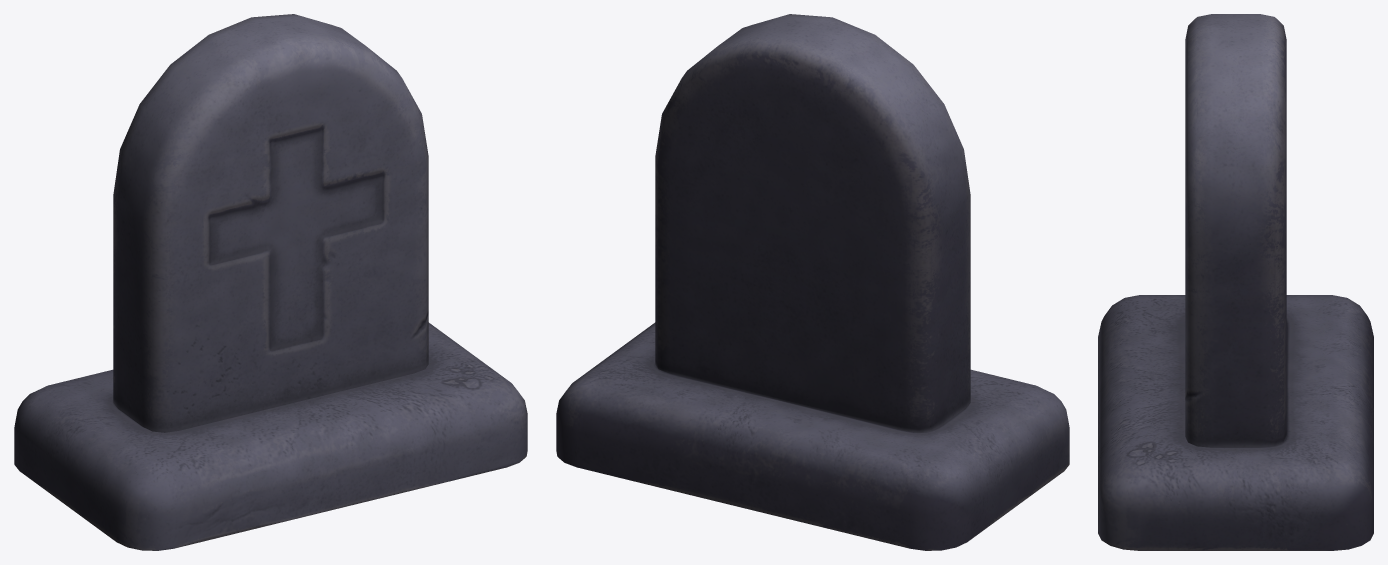
File: Gravestone.FBX
3 renders of one model, left to right at view 1: azimuth 30°, elevation 25°; view 2: azimuth 150°, elevation 25°; view 3: azimuth 270°, elevation 25°, orthographic.
Visible parts, largest first — view 1: Gravestone; view 2: Gravestone; view 3: Gravestone.
Boxes of the visible parts, x1,y1,x2,y2 form: Gravestone: (14,14,527,550); Gravestone: (556,14,1069,550); Gravestone: (1098,14,1373,550).
Size of the model in its own units: 92.27 by 93.02 by 54.73.
